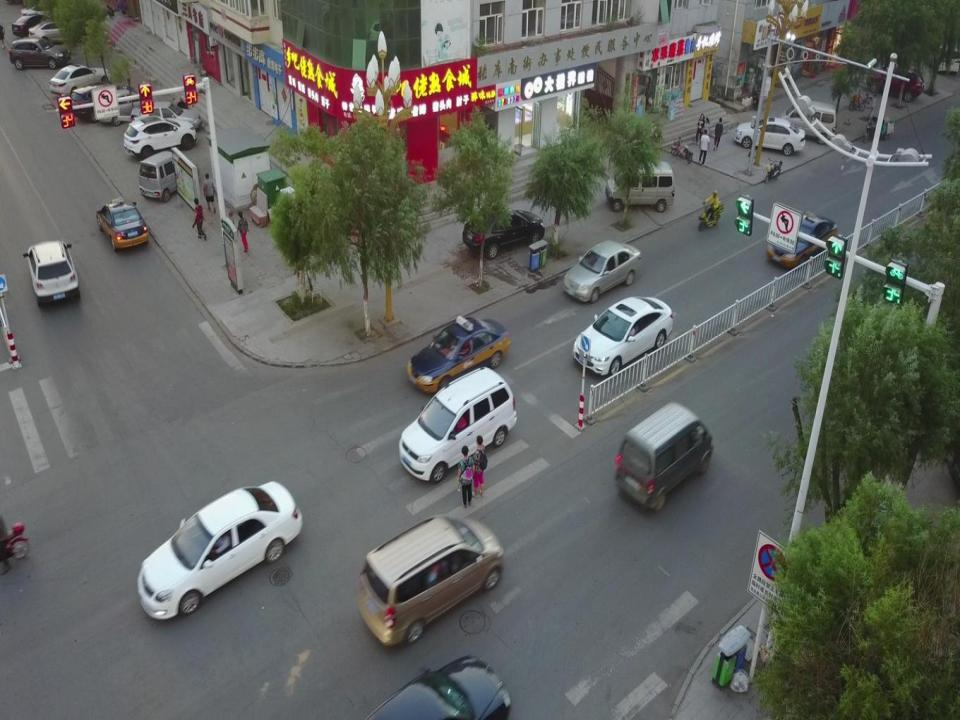car: (133, 479, 304, 622), (357, 656, 512, 720), (572, 292, 682, 377), (406, 312, 512, 396), (562, 238, 642, 304), (462, 206, 546, 261), (764, 209, 838, 269), (21, 237, 82, 308), (122, 113, 198, 161), (95, 193, 151, 253), (732, 111, 805, 157), (866, 61, 926, 103), (128, 100, 202, 134), (94, 88, 162, 125), (8, 34, 72, 71), (68, 83, 126, 122), (48, 64, 111, 96), (918, 34, 960, 75), (29, 20, 84, 45), (11, 12, 59, 39), (19, 1, 65, 23)
van: (354, 513, 506, 650), (396, 362, 516, 486), (613, 399, 714, 512), (604, 159, 676, 215), (137, 148, 191, 203), (781, 96, 838, 146)
